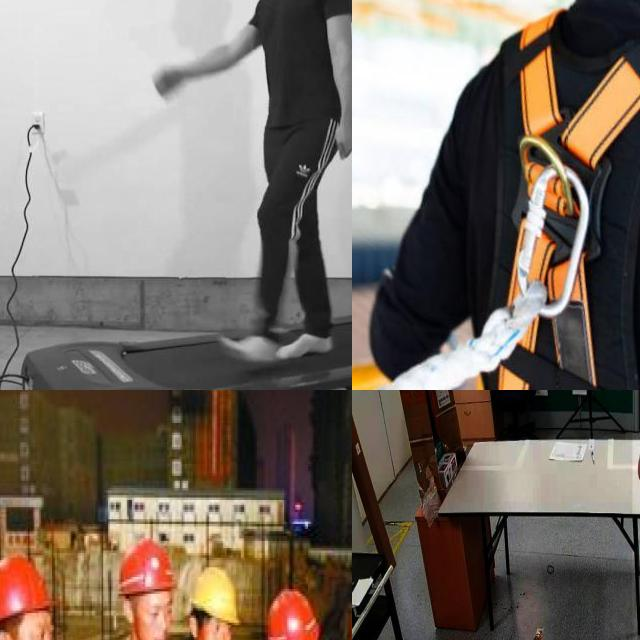Harness: (384, 12, 640, 390)
No_Ear-Protection: (117, 578, 177, 640), (0, 600, 56, 640), (185, 597, 232, 640)
hand_noglove: (156, 52, 206, 113), (310, 103, 352, 173)
person: (150, 0, 352, 362)
